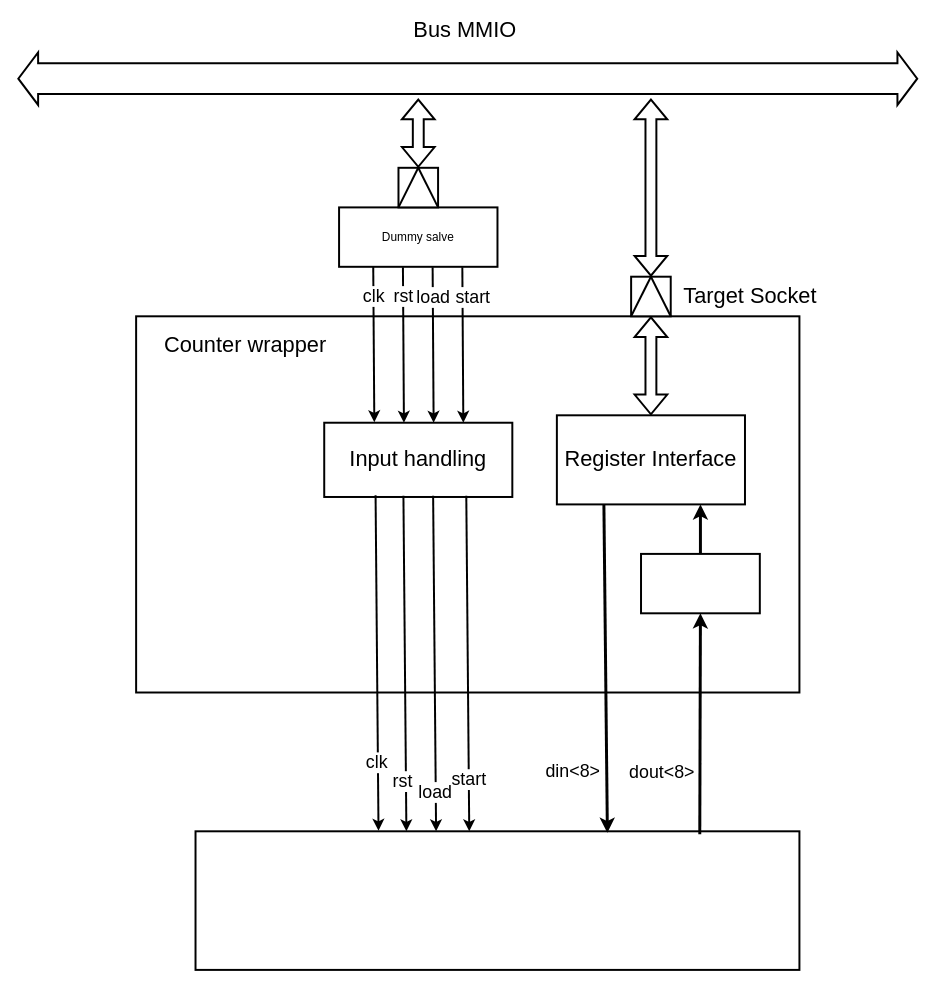
The diagram is 935 pixels wide and 988 high, and some of its shapes have lost their labels. Here are the shapes that lost their labels. From the top down, the centre of each, then its label:
At point (700, 583): "Output handling".
At point (497, 900): "Counter (RTL level design)".
